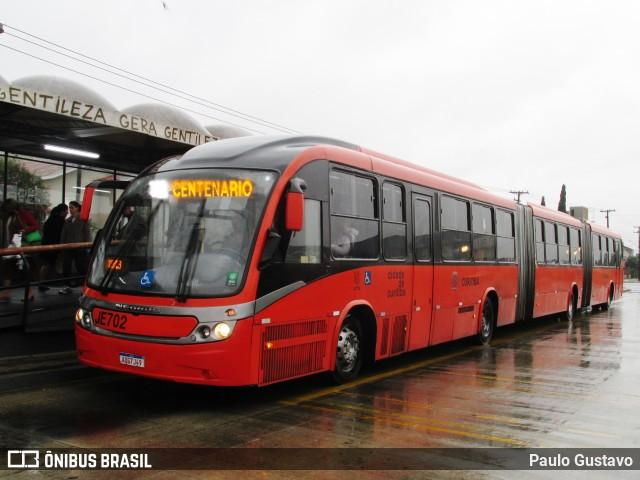CENTENARIO: (167, 175, 257, 201)
